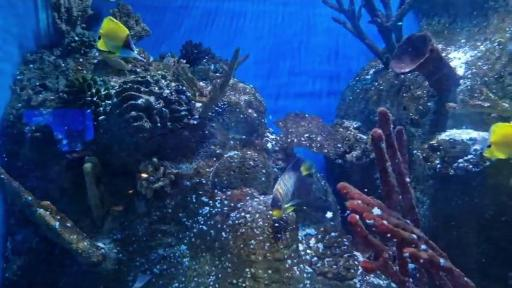Fish: (270, 158, 315, 217), (97, 16, 144, 60), (483, 123, 512, 159)
